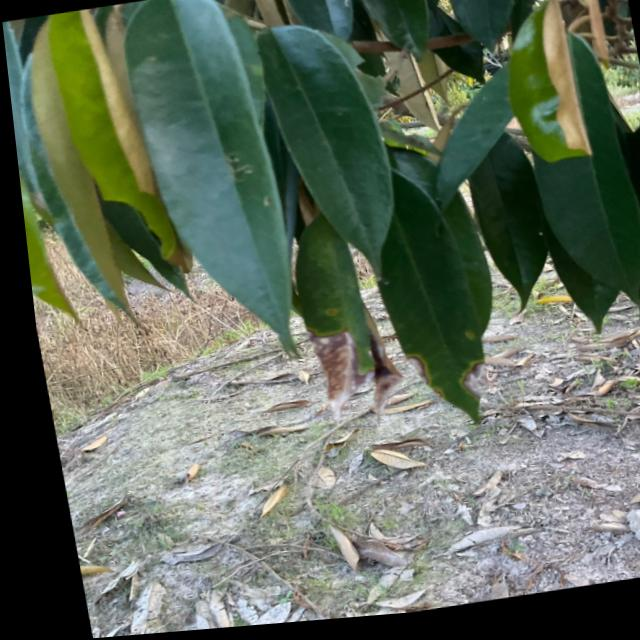Leaf Blight: (290, 227, 383, 415)
Leaf Spot: (398, 349, 477, 429)
